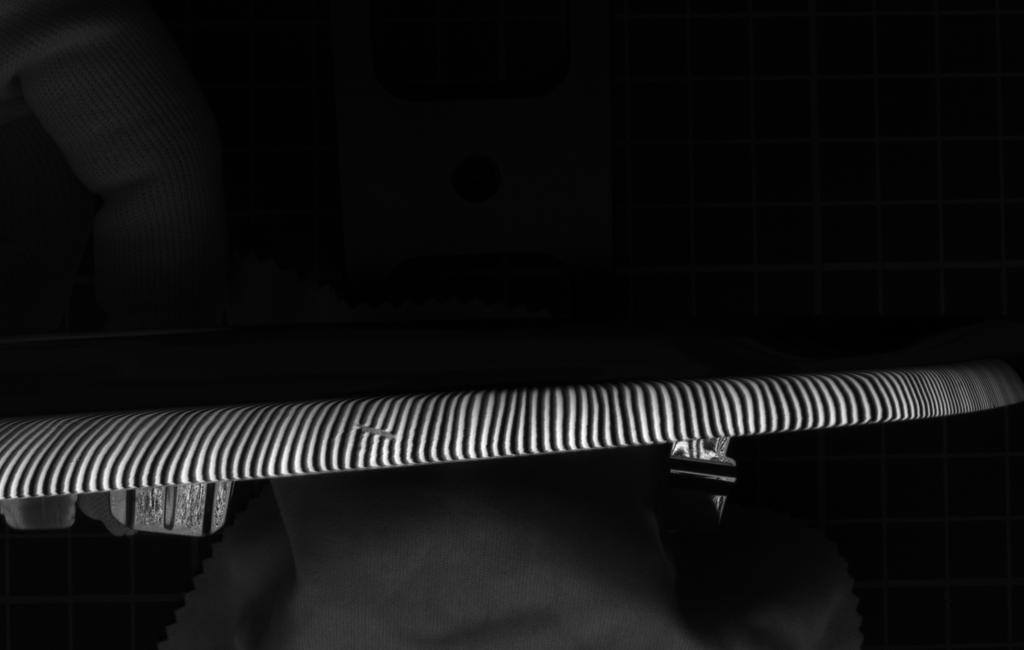Scratch: (350, 422, 416, 445)
